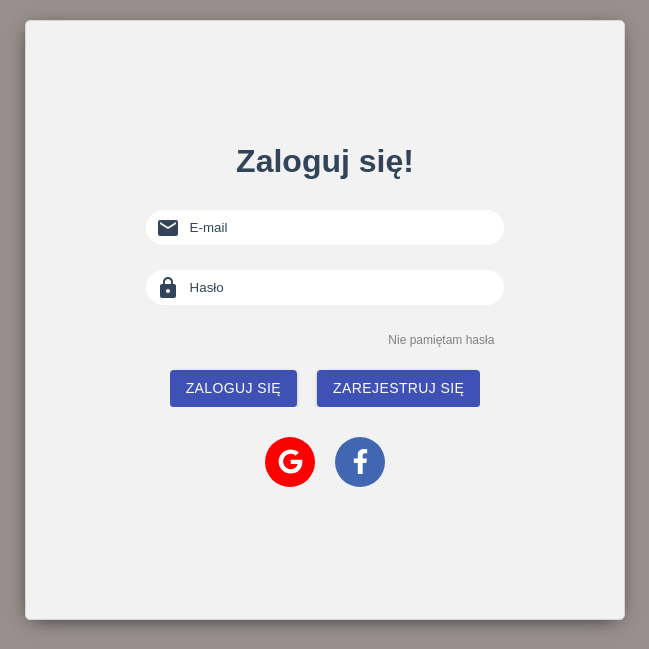
User registration into application in form › Should error for different password
The image size is (649, 649).
Click the link to "/registration": (399, 383) [317, 374, 480, 391]
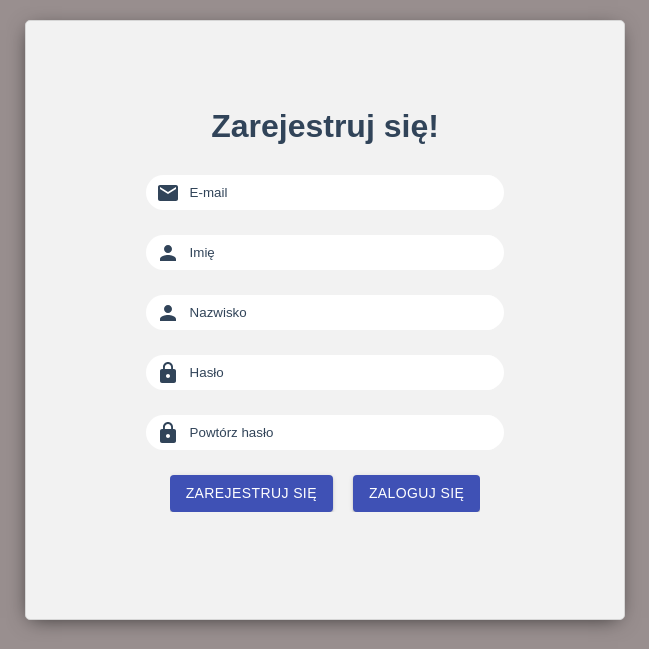
Expected: the heading "Zarejestruj się!" is shown, [211, 108, 439, 145]
In the field named "email": (343, 193) [190, 175, 495, 210], type "test@gmail.com"
In the field named "firstName": (343, 253) [190, 235, 495, 270], type "Paula"
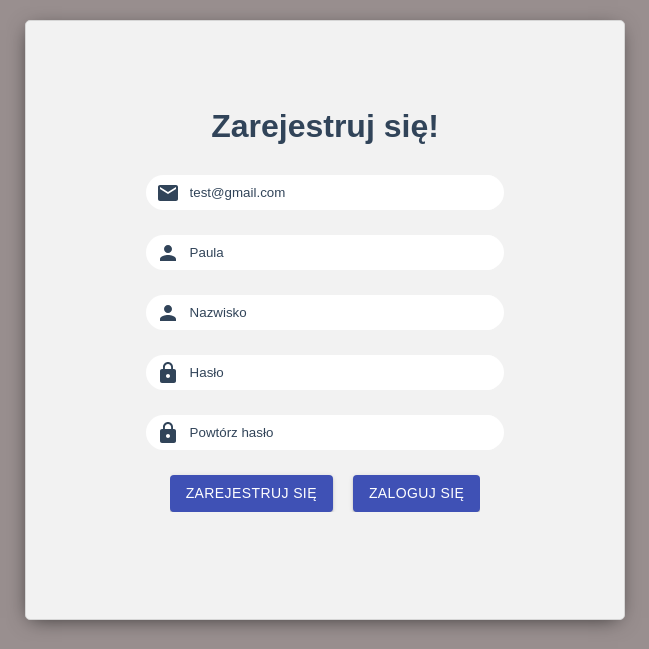
In the field named "lastName": (343, 313) [190, 295, 495, 330], type "test"
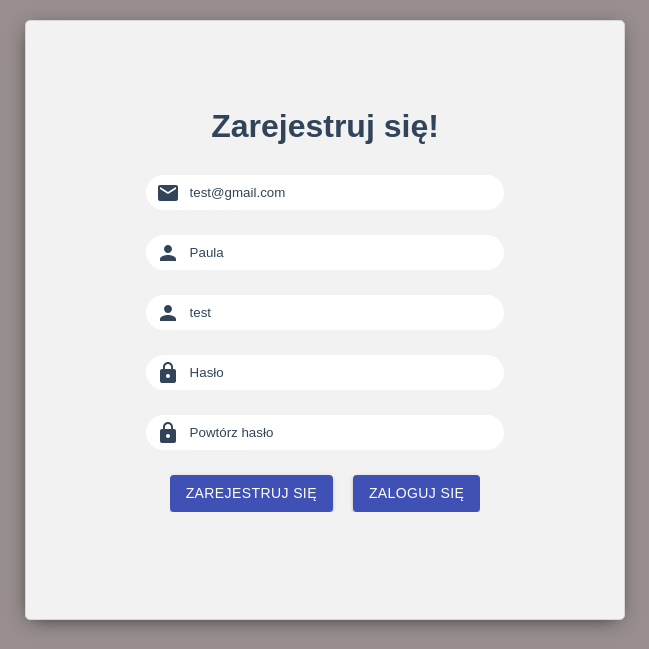
In the password field named "password": (343, 373) [190, 355, 495, 390], type "12345678"
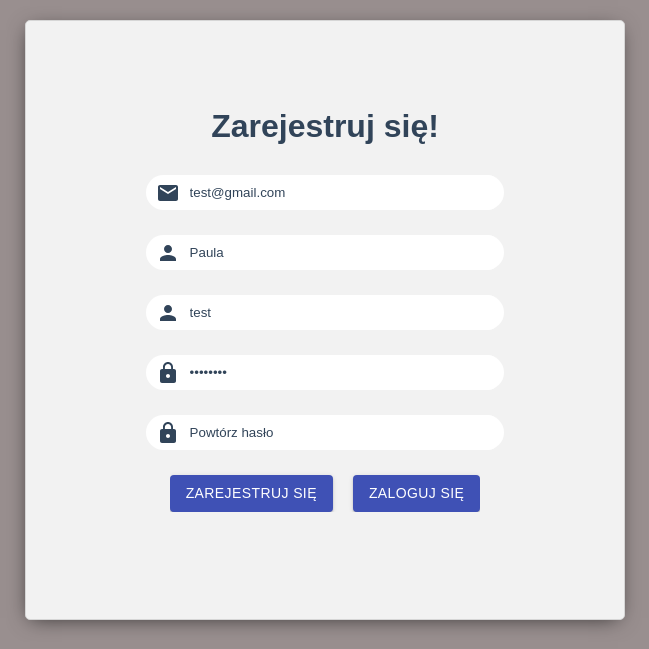
In the password field named "passwordConfirm": (343, 433) [190, 415, 495, 450], type "12345679"
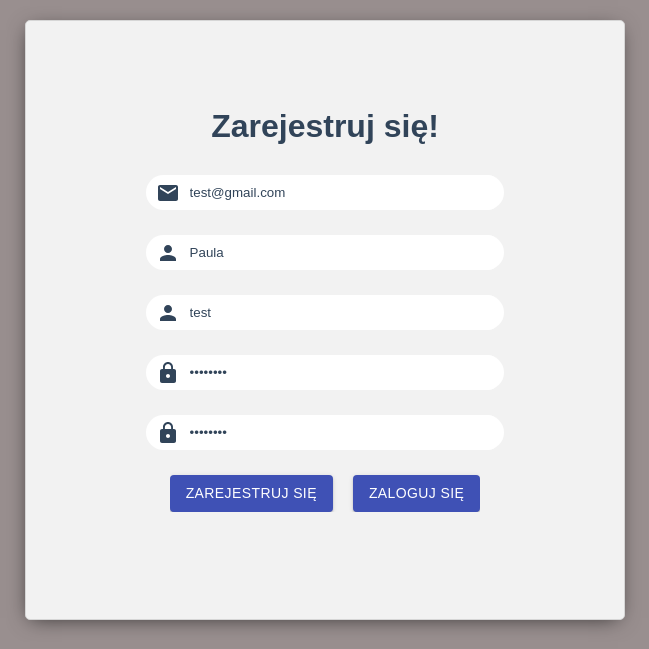
Click the submit button: (252, 494) [170, 475, 333, 512]
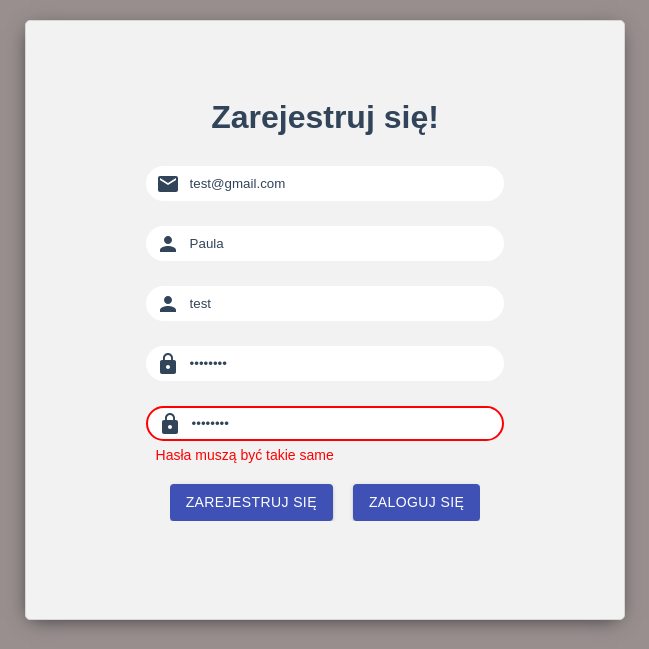
Expected: the text "Hasła muszą być takie same" is shown, [146, 447, 334, 463]
